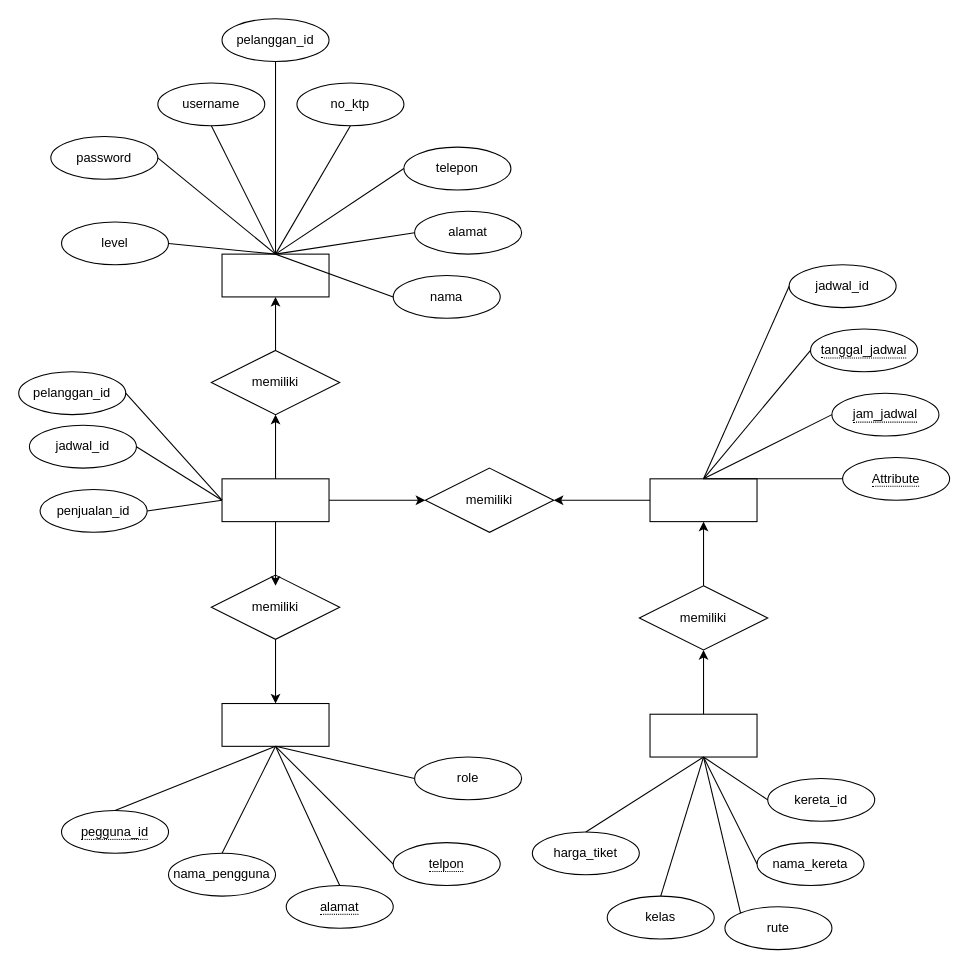
The diagram is 968 pixels wide and 968 high, and some of its shapes have lost their labels. The shapes that lost their labels are listed below. From the top down, each one's centre as x and y in pixels, then its label:
At (x=275, y=275): "Pelanggan".
At (x=275, y=500): "Penjualan".
At (x=703, y=500): "Jadwal".
At (x=275, y=724): "Admin".
At (x=703, y=735): "kereta_api".
